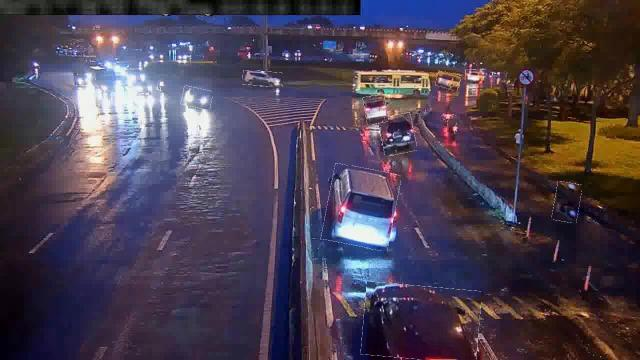Bike: (553, 182, 581, 222), (448, 114, 457, 134)
Car: (362, 284, 480, 360), (324, 165, 398, 248), (379, 114, 416, 154), (364, 96, 388, 125), (182, 87, 212, 109), (243, 71, 283, 87), (436, 72, 460, 90), (466, 70, 486, 84)
